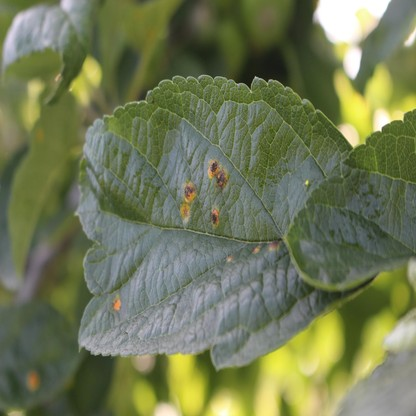rust: (207, 160, 228, 189), (182, 181, 194, 223), (26, 368, 39, 392), (211, 209, 219, 229), (268, 241, 280, 252), (112, 298, 121, 310), (253, 244, 258, 254), (225, 254, 231, 262)
